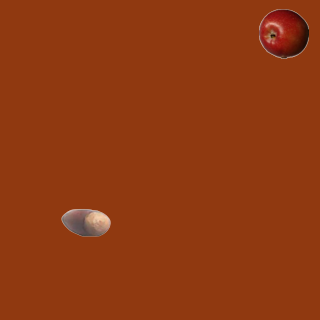Apple Braeburn: (258, 8, 308, 58)
Hazelnut: (60, 197, 110, 247)
